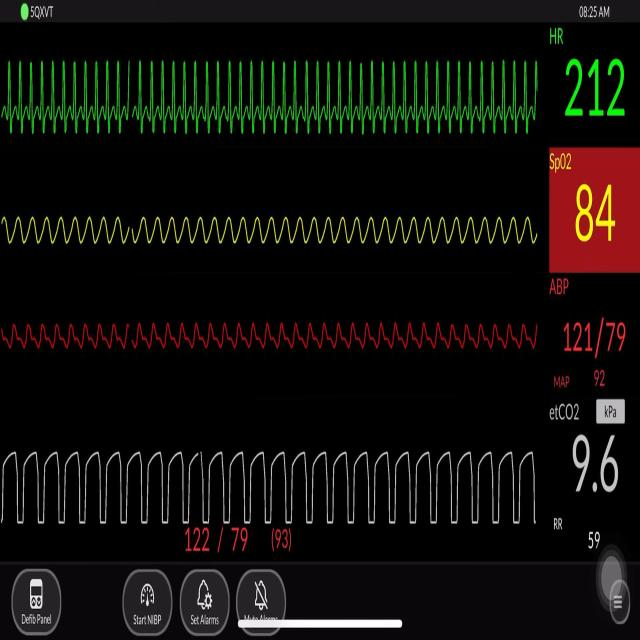danger: (7, 50, 541, 139)
